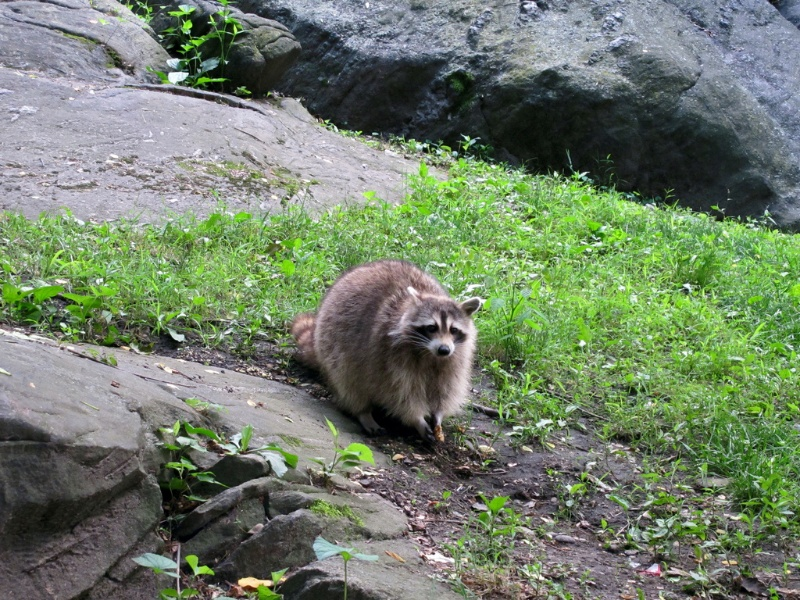raccoon: (291, 256, 484, 448)
